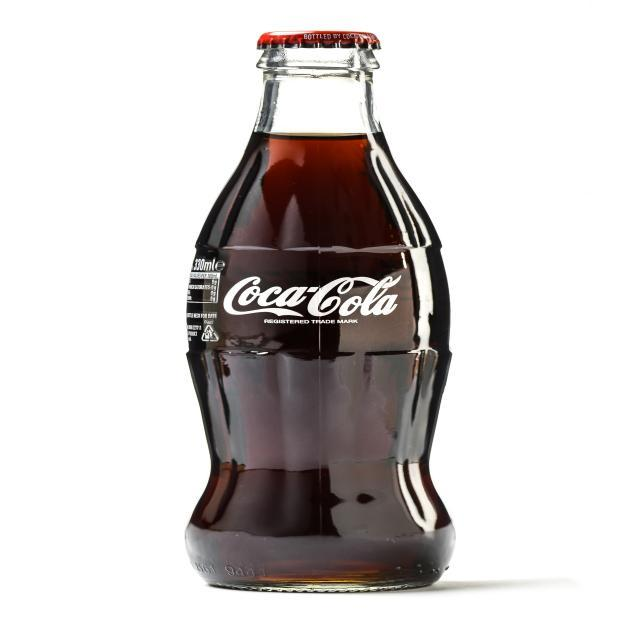Coke: (175, 25, 463, 598)
